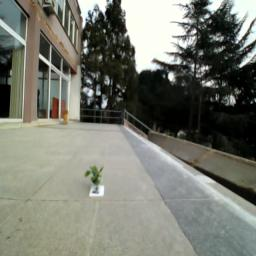herb: (85, 165, 106, 196)
